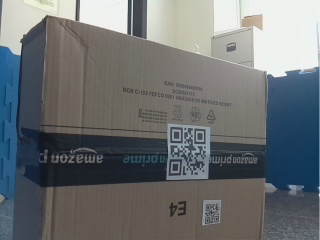caja: (26, 40, 263, 236)
